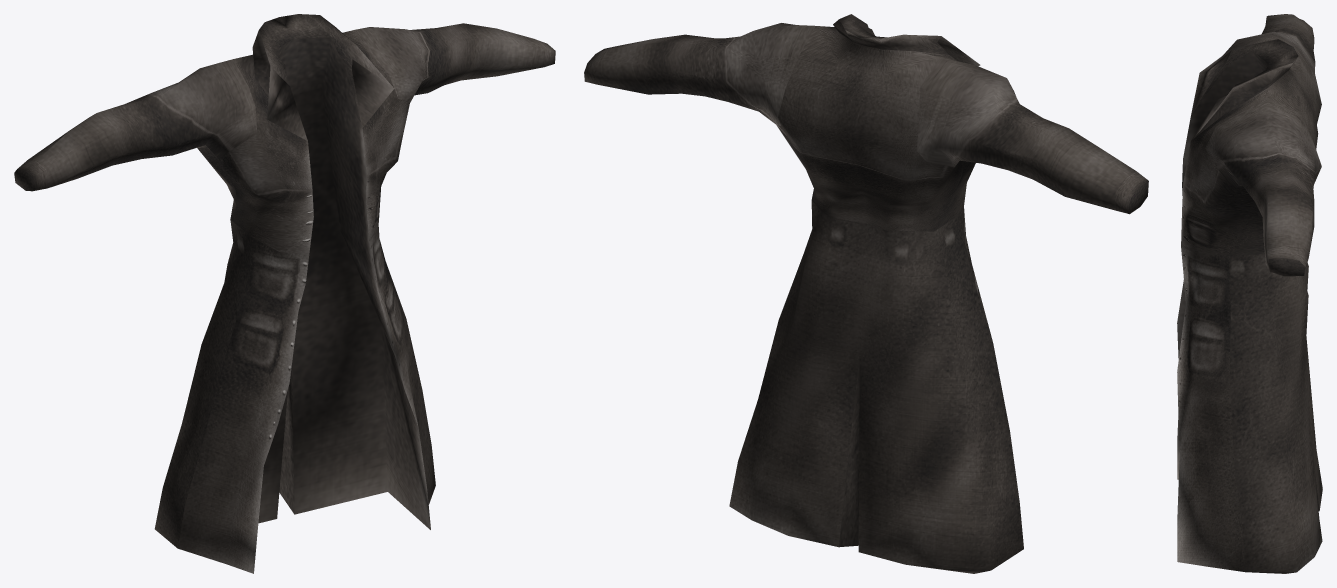
The model's file is duster_7_coat.obj.
3 views of the same model, side by side, from view 1: azimuth 30°, elevation 25°; view 2: azimuth 150°, elevation 25°; view 3: azimuth 270°, elevation 25° (orthographic). The views are drawn at different scales.
Parts seen in each view (by area): view 1: duster7_coat; view 2: duster7_coat; view 3: duster7_coat.
Boxes of the visible parts, x1,y1,x2,y2 form: duster7_coat: (14, 14, 555, 573); duster7_coat: (584, 14, 1148, 573); duster7_coat: (1177, 14, 1322, 573).
Size of the model in its own units: 82.03 by 74.61 by 20.82.
1 material, 1 textured.
